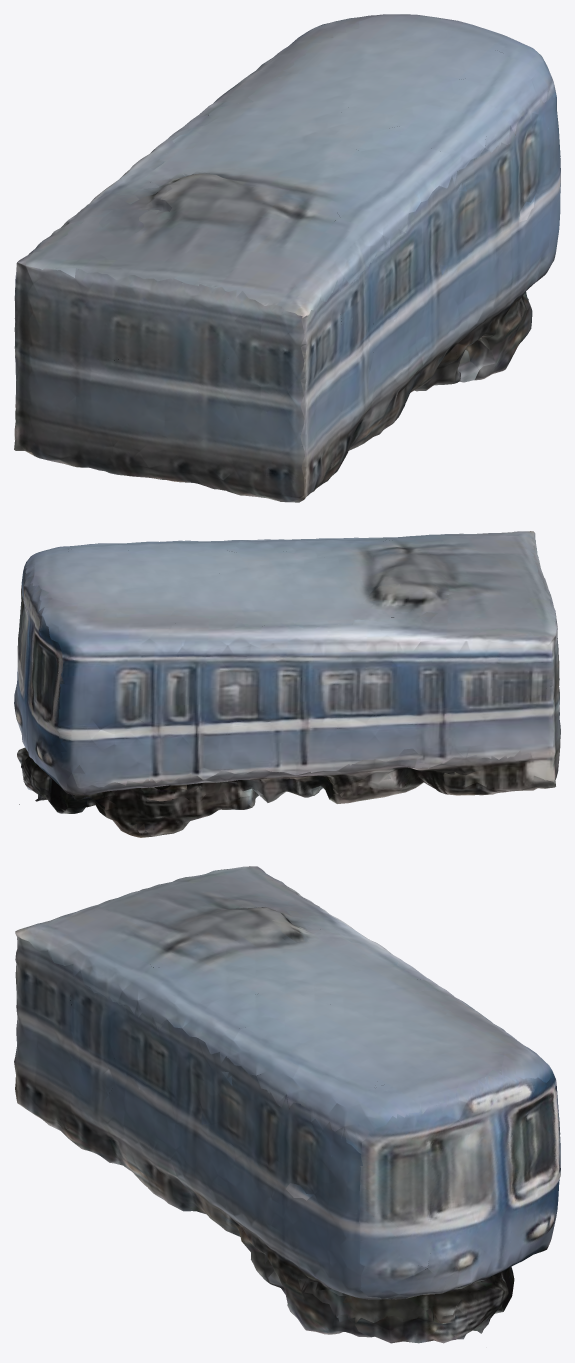
Rendered from Train model optimization 2.glb.
3 renders of one model, top to bottom at view 1: azimuth 30°, elevation 25°; view 2: azimuth 150°, elevation 25°; view 3: azimuth 270°, elevation 25°, orthographic. The views are drawn at different scales.
Visible parts, largest first — view 1: world; view 2: world; view 3: world.
Boxes of the visible parts, x1=… form: world: x1=14, y1=14, x2=560, y2=502; world: x1=14, y1=531, x2=560, y2=837; world: x1=14, y1=866, x2=560, y2=1343.
Size of the model in its own units: 0.9503 by 0.4449 by 0.8062.
1 material, 1 textured.
